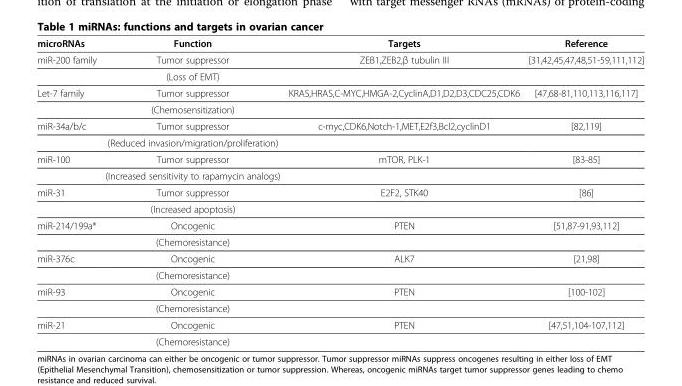table: (36, 37, 643, 346)
table column: (283, 37, 523, 346), (100, 37, 283, 346), (523, 37, 643, 346), (36, 37, 100, 346)
table column header: (36, 37, 643, 50)
table row: (36, 50, 643, 67), (36, 67, 643, 84), (36, 100, 643, 117), (36, 117, 643, 134), (36, 150, 643, 167), (36, 183, 643, 200), (36, 216, 643, 233), (36, 249, 643, 266), (36, 266, 643, 283), (36, 299, 643, 316), (36, 84, 643, 100), (36, 134, 643, 150), (36, 167, 643, 183), (36, 200, 643, 216), (36, 233, 643, 249), (36, 283, 643, 299), (36, 316, 643, 332), (36, 332, 643, 346), (36, 37, 643, 50)
table spanning cell: (36, 50, 100, 84), (36, 249, 100, 283), (36, 84, 100, 117), (36, 117, 100, 150), (36, 150, 100, 183), (36, 183, 100, 216), (36, 216, 100, 249), (36, 283, 100, 316), (36, 316, 100, 346)
